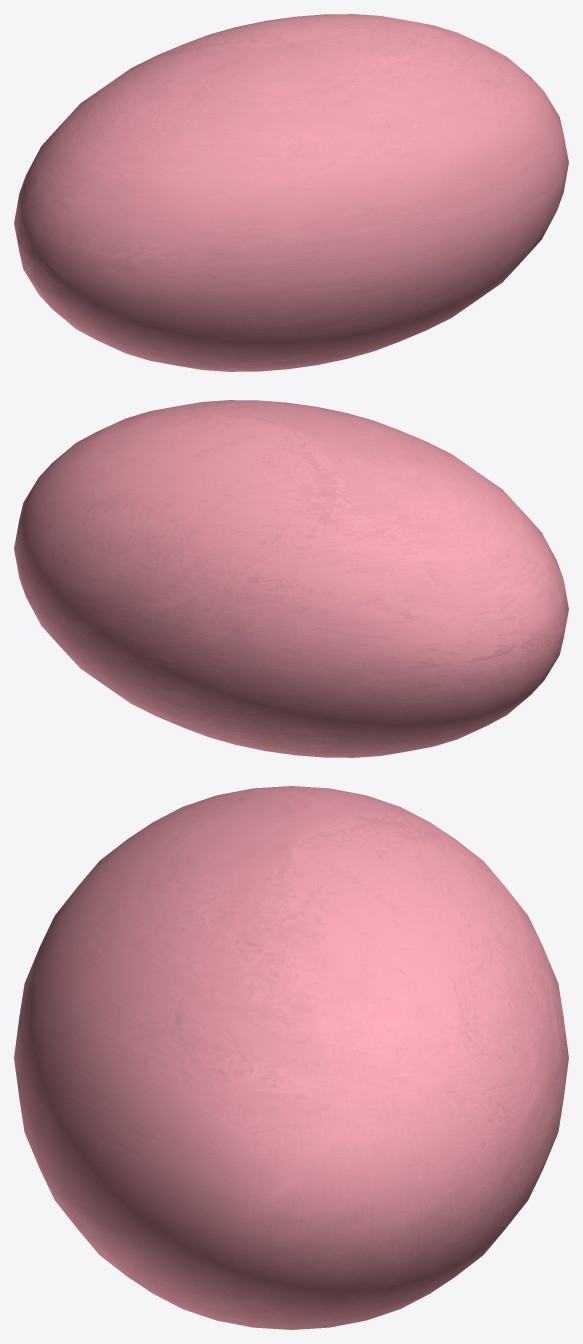
File: rose1.FBX
The picture shows the model from 3 angles, top to bottom: view 1: azimuth 30°, elevation 25°; view 2: azimuth 150°, elevation 25°; view 3: azimuth 270°, elevation 25°; orthographic projection. The views are drawn at different scales.
Parts seen in each view (by area): view 1: Sphère006; view 2: Sphère006; view 3: Sphère006.
Part boxes in pixels (x1,y1,x2,y2): Sphère006: [14, 14, 568, 371]; Sphère006: [14, 400, 568, 757]; Sphère006: [14, 786, 568, 1329].
Bounding box in the file's own units: 14.54 × 8.09 × 9.72.
Materials: 1 (1 with a texture image).
